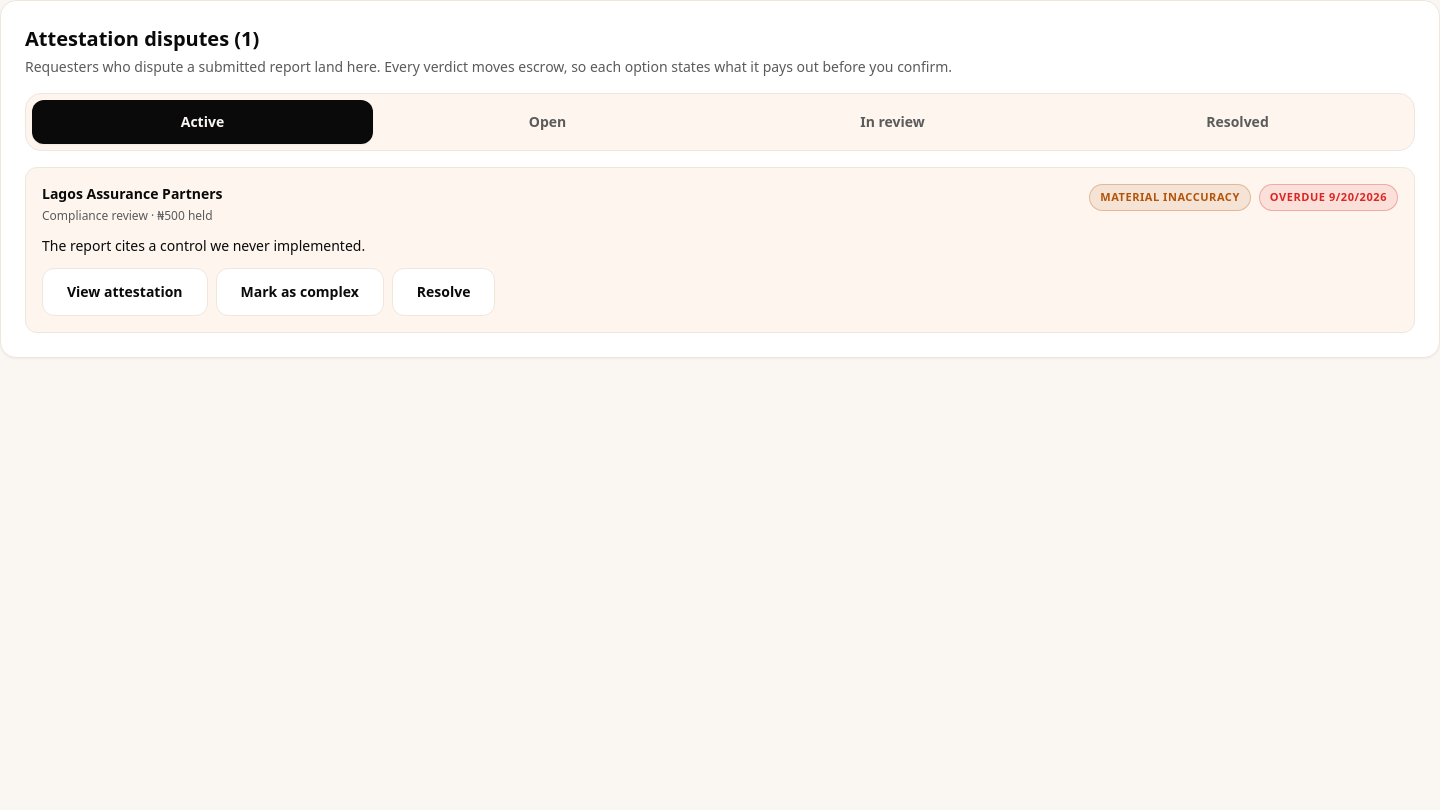
it: AdminAttestationDisputesPanel › keeps the verdict disabled until a verdict and notes are supplied
This screenshot has width=1440, height=810.
Click the button "Resolve" at (444, 292), box [392,268,496,316]
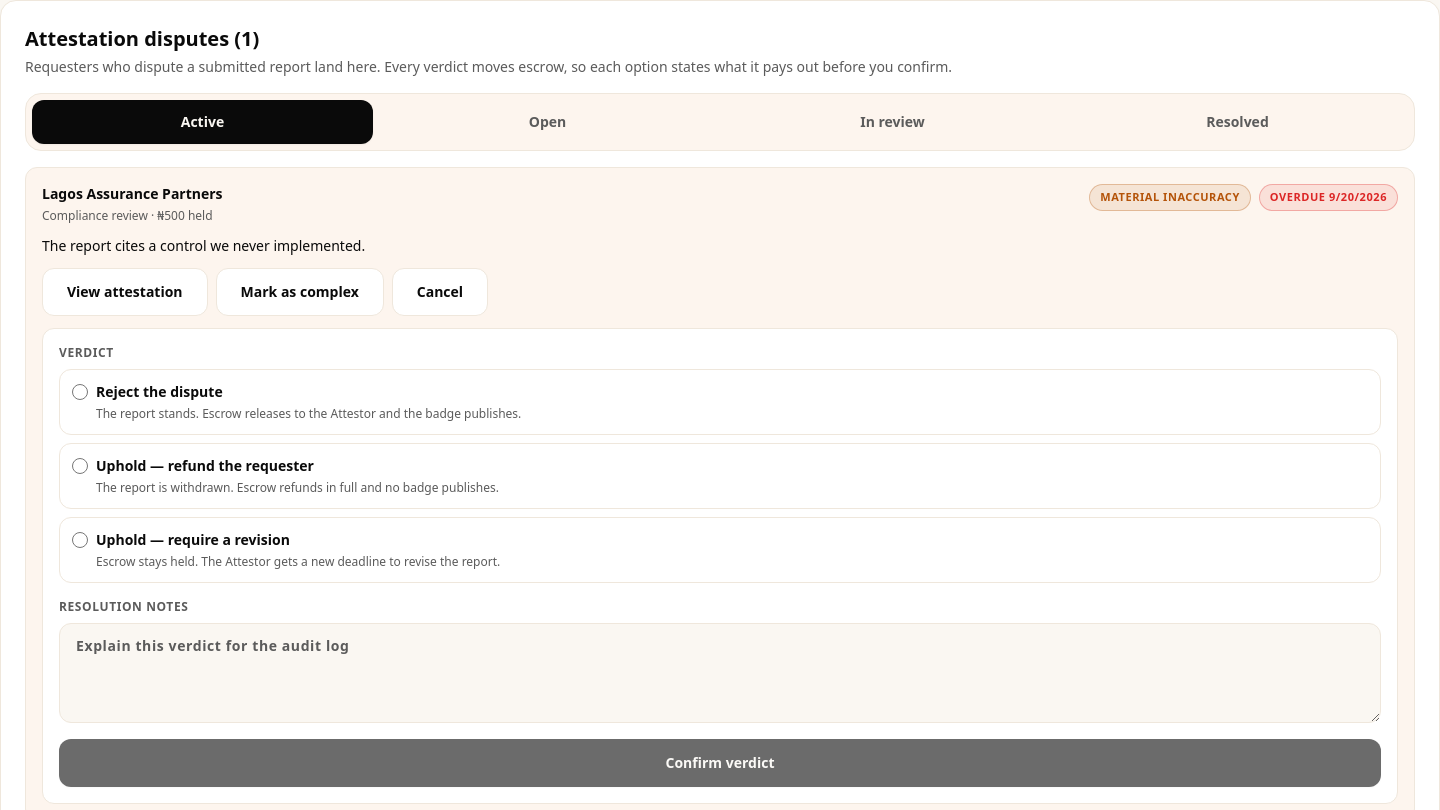
Result: the button "Confirm verdict" is disabled at [59,739,1381,787]
Click the radio button labelled "refund the requester" at (80, 466), box [72,458,88,474]
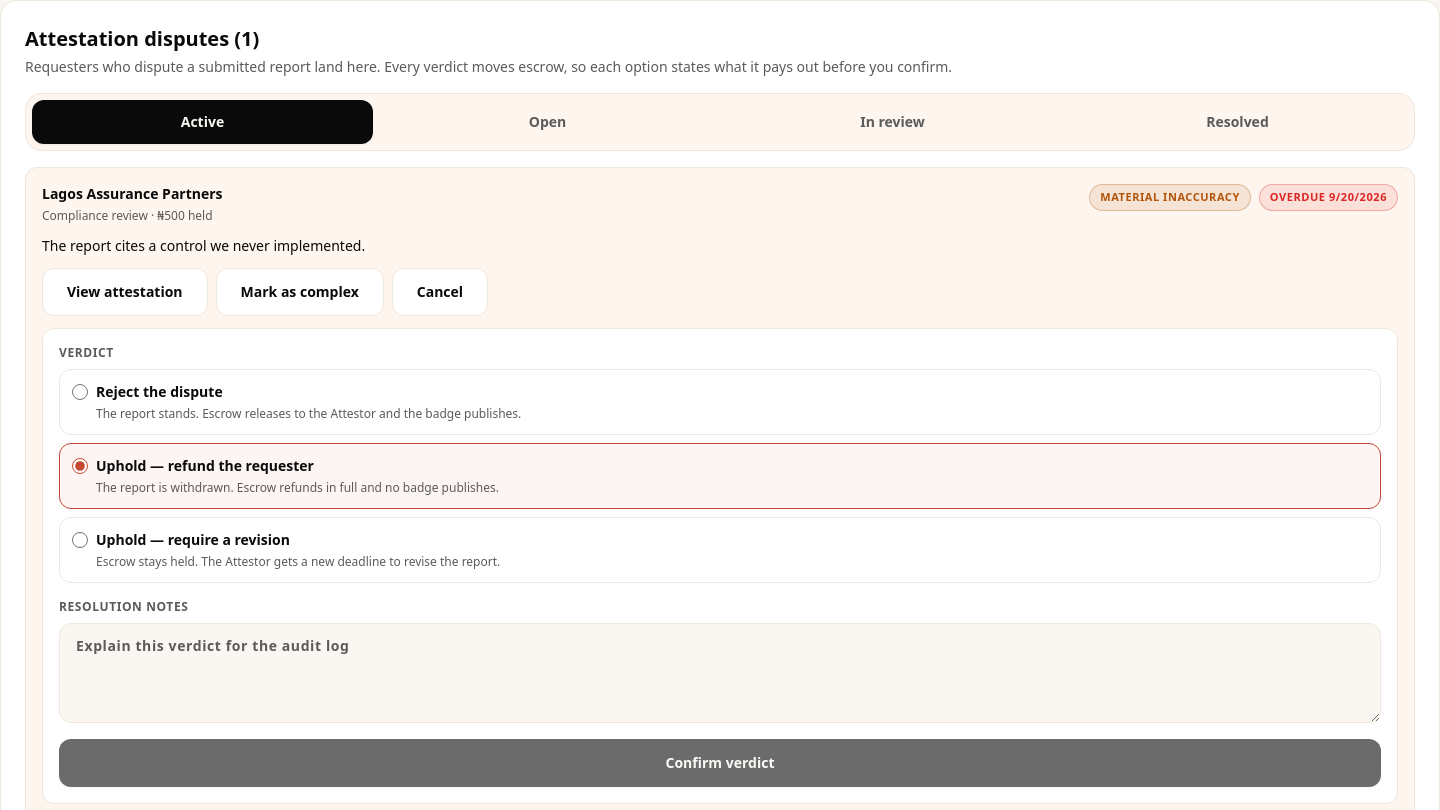
Result: the button "Confirm verdict" is disabled at [59,739,1381,787]
Type "Report withdrawn; refund in full." into the text box labelled "Resolution notes" at (720, 673), box [59,623,1381,723]
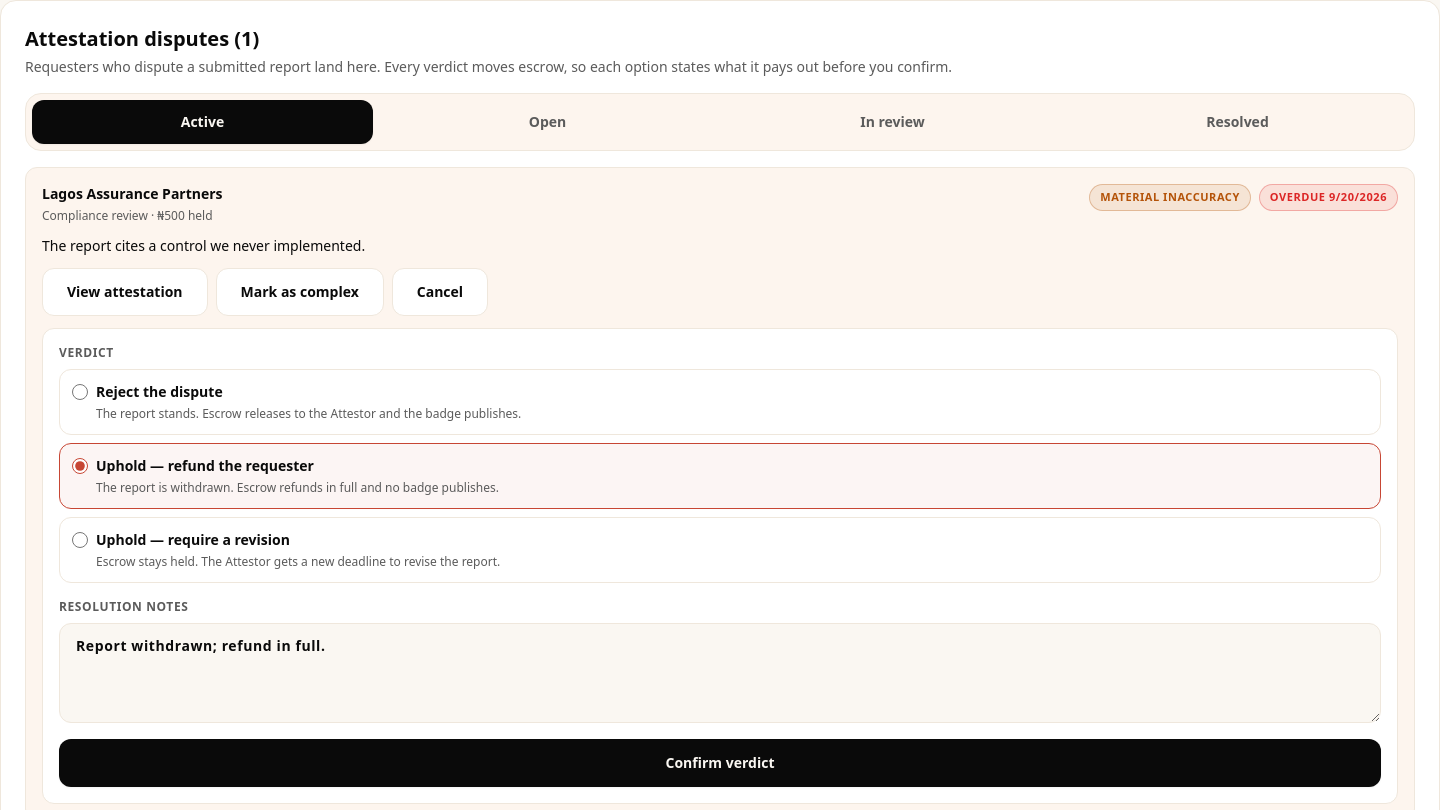
Result: the button "Confirm verdict" is enabled at [59,739,1381,787]
